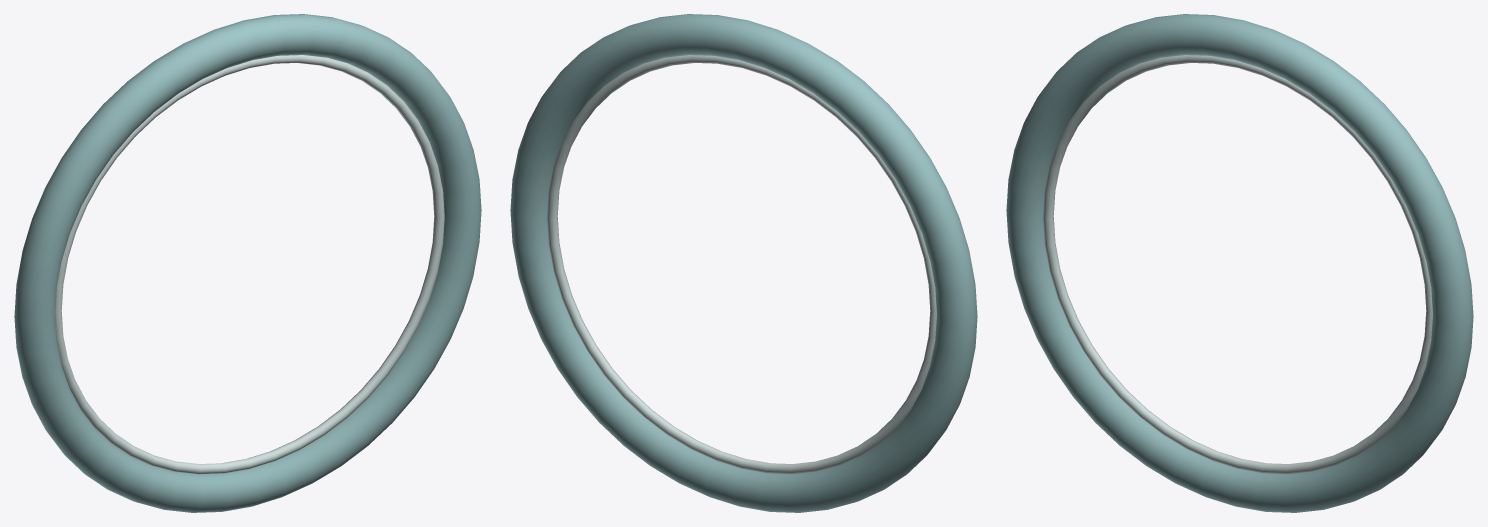
File: ring.glb
The picture shows the model from 3 angles, left to right: view 1: azimuth 30°, elevation 25°; view 2: azimuth 150°, elevation 25°; view 3: azimuth 330°, elevation 25°; orthographic projection.
Parts seen in each view (by area): view 1: ring; view 2: ring; view 3: ring.
Boxes of the visible parts, x1,y1,x2,y2 form: ring: [14, 14, 481, 512]; ring: [510, 14, 977, 512]; ring: [1006, 14, 1473, 512].
Size of the model in its own units: 11.7 by 11.7 by 0.9.
